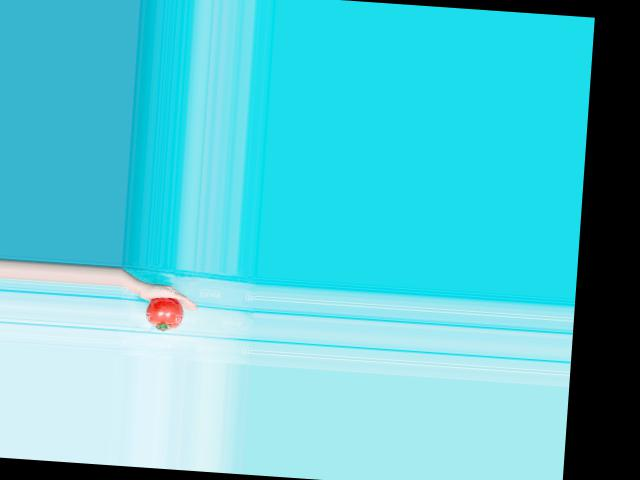tomato: (146, 296, 185, 331)
